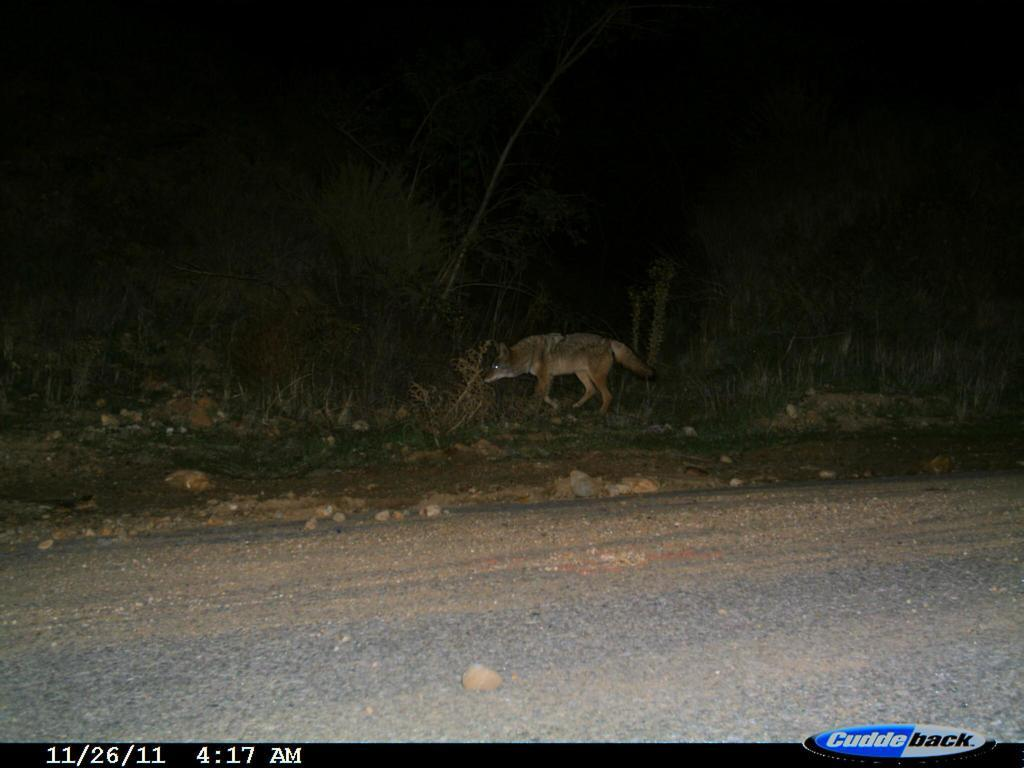coyote: (479, 327, 664, 423)
